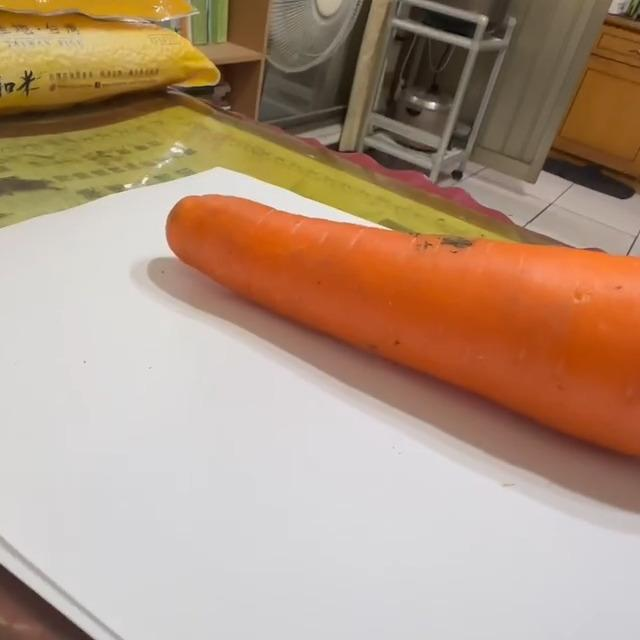carrot: (166, 192, 640, 466)
